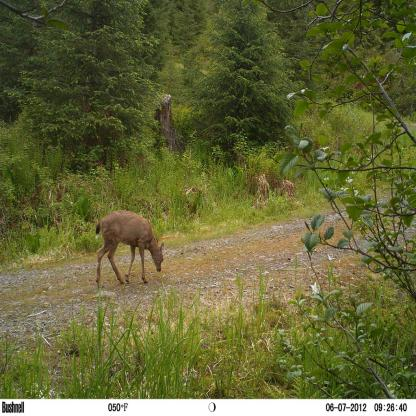Deer: (93, 210, 166, 292)
